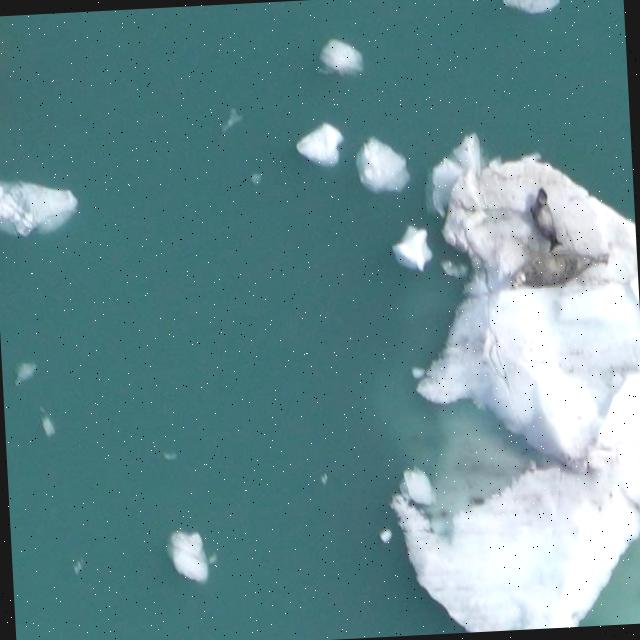seal: (510, 251, 609, 290), (533, 187, 561, 251)
